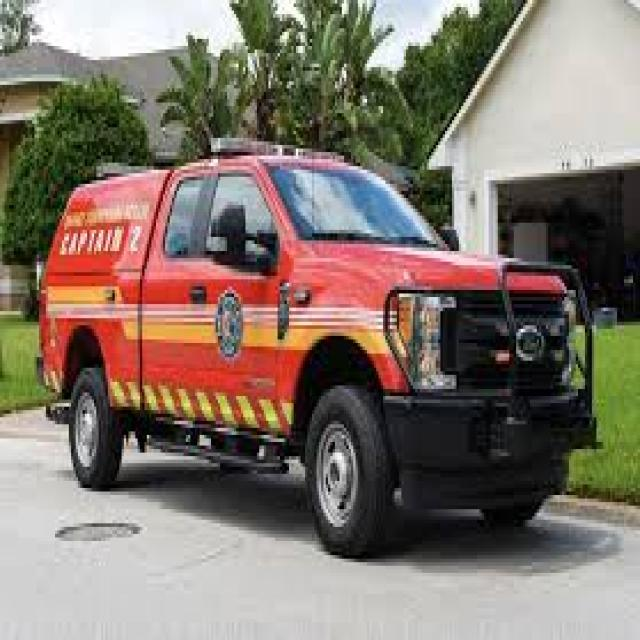Firetruck: (39, 130, 624, 582)
